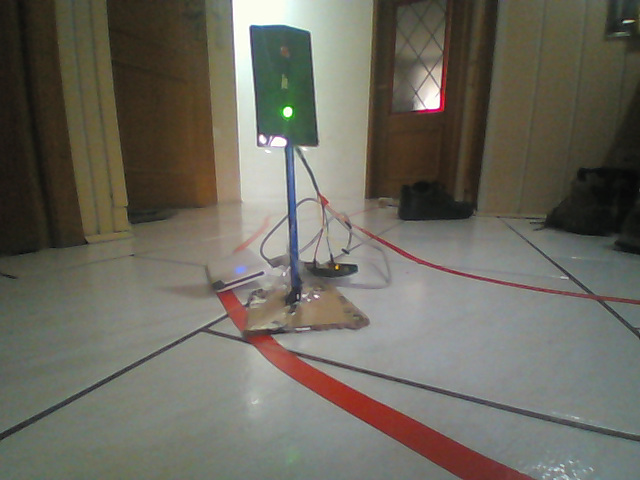green_sign: (240, 21, 322, 152)
